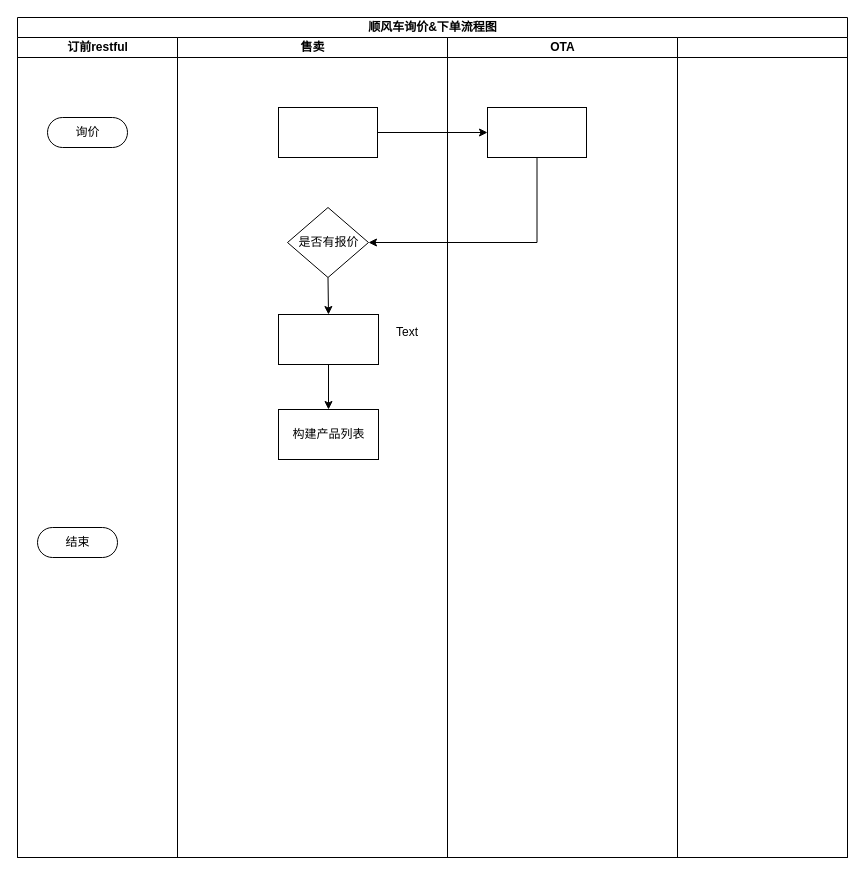
The diagram is 865 pixels wide and 875 high, and some of its shapes have lost their labels. The shapes that lost their labels are listed below. From the top down, each one's centre as x and y in pixels, then its label:
(328,132): 请求OTA获取报价
(536,132): 查询哈喽获取报价
(328,339): 生成prdRef，缓存报价信息
(762,447): 用户订单
